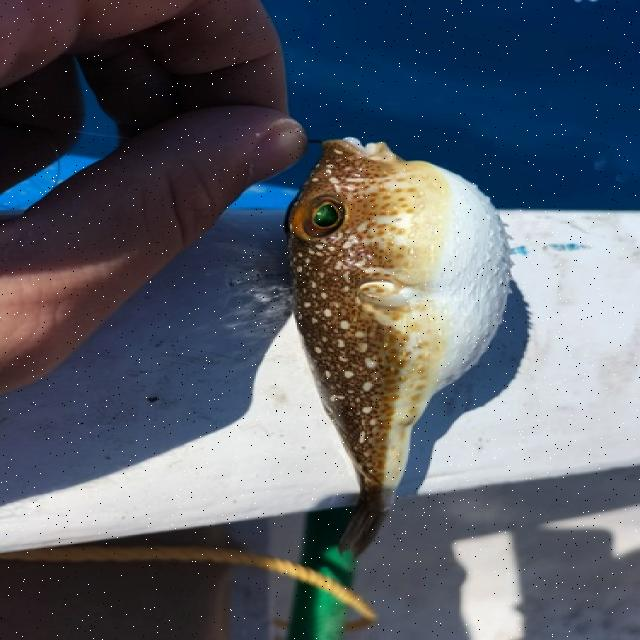Balik: (287, 139, 510, 554)
